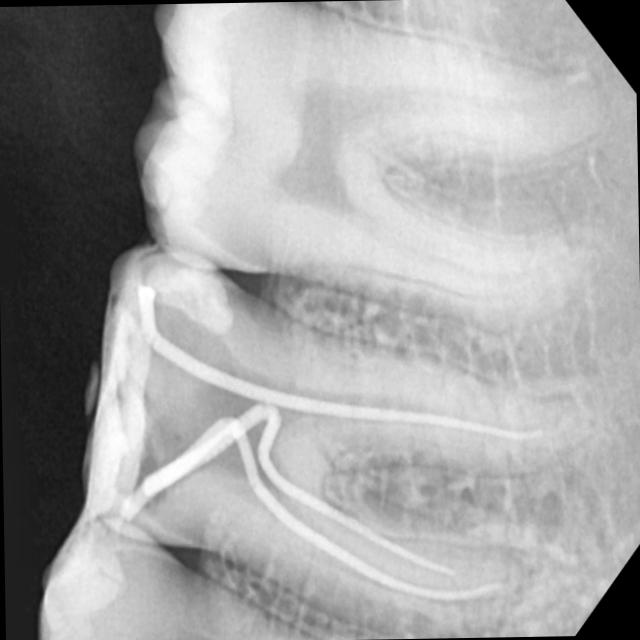RCT: (107, 314, 538, 619)
